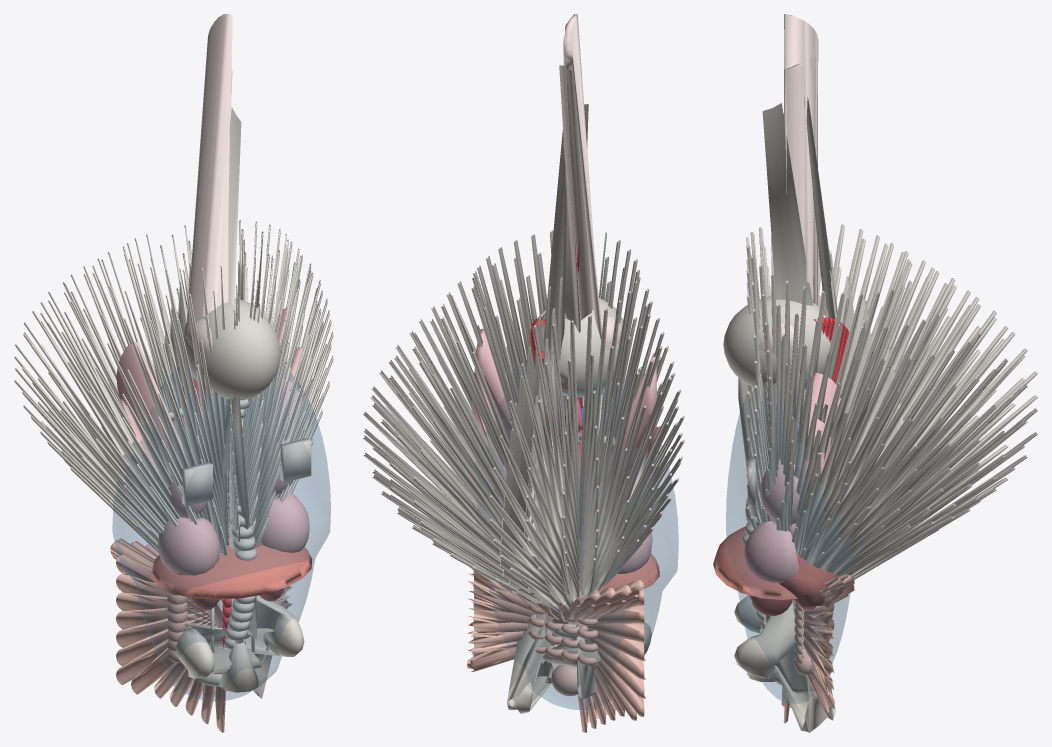
File: Human_Torso_Anatomy_Full.glb
3 views of the same model, side by side, from view 1: azimuth 30°, elevation 25°; view 2: azimuth 150°, elevation 25°; view 3: azimuth 270°, elevation 25° (orthographic).
Parts seen in each view (by area): view 1: Rib_Cage_TrueAndFalse, Torso_Anatomical_Silhouette, Large_Intestine_Colon, Skull_Cranium, Brain_Cerebrum, Lung_Left_2Lobes, Pelvic_Girdle, Diaphragm_Muscle, Lung_Right_3Lobes, Vertebral_Spine, Pectoral_Girdle; view 2: Rib_Cage_TrueAndFalse, Torso_Anatomical_Silhouette, Large_Intestine_Colon, Brain_Cerebrum, Skull_Cranium, Pelvic_Girdle, Lung_Left_2Lobes, Small_Intestine_JejunumIleum, Lung_Right_3Lobes, Diaphragm_Muscle, Urinary_Bladder; view 3: Rib_Cage_TrueAndFalse, Torso_Anatomical_Silhouette, Skull_Cranium, Brain_Cerebrum, Pelvic_Girdle, Lung_Right_3Lobes, Large_Intestine_Colon, Diaphragm_Muscle, Liver_Hepatic, Aortic_Arch_Systemic, Kidney_Right.
Part boxes in pixels (bbox=[...]): Rib_Cage_TrueAndFalse: bbox=[14, 219, 333, 611]; Torso_Anatomical_Silhouette: bbox=[112, 366, 330, 701]; Large_Intestine_Colon: bbox=[110, 538, 292, 732]; Skull_Cranium: bbox=[183, 107, 280, 639]; Brain_Cerebrum: bbox=[186, 14, 276, 399]; Lung_Left_2Lobes: bbox=[116, 341, 222, 628]; Pelvic_Girdle: bbox=[175, 595, 304, 698]; Diaphragm_Muscle: bbox=[150, 545, 312, 599]; Lung_Right_3Lobes: bbox=[261, 306, 309, 552]; Vertebral_Spine: bbox=[219, 399, 259, 692]; Pectoral_Girdle: bbox=[168, 407, 311, 506]; Rib_Cage_TrueAndFalse: bbox=[362, 230, 684, 613]; Torso_Anatomical_Silhouette: bbox=[463, 362, 678, 709]; Large_Intestine_Colon: bbox=[467, 566, 645, 732]; Brain_Cerebrum: bbox=[537, 14, 622, 644]; Skull_Cranium: bbox=[530, 78, 623, 434]; Pelvic_Girdle: bbox=[507, 613, 651, 713]; Lung_Left_2Lobes: bbox=[552, 353, 660, 636]; Small_Intestine_JejunumIleum: bbox=[528, 605, 598, 665]; Lung_Right_3Lobes: bbox=[472, 328, 558, 645]; Diaphragm_Muscle: bbox=[568, 553, 659, 597]; Urinary_Bladder: bbox=[551, 665, 578, 695]; Rib_Cage_TrueAndFalse: bbox=[746, 223, 1037, 579]; Torso_Anatomical_Silhouette: bbox=[726, 375, 867, 703]; Skull_Cranium: bbox=[723, 97, 837, 625]; Brain_Cerebrum: bbox=[758, 14, 818, 408]; Pelvic_Girdle: bbox=[734, 596, 835, 732]; Lung_Right_3Lobes: bbox=[744, 372, 841, 616]; Large_Intestine_Colon: bbox=[781, 573, 854, 723]; Diaphragm_Muscle: bbox=[713, 526, 797, 599]; Liver_Hepatic: bbox=[779, 554, 838, 609]; Aortic_Arch_Systemic: bbox=[813, 299, 849, 383]; Kidney_Right: bbox=[750, 595, 792, 615].
Size of the model in its own units: 0.6349 by 1.53 by 0.6311.
